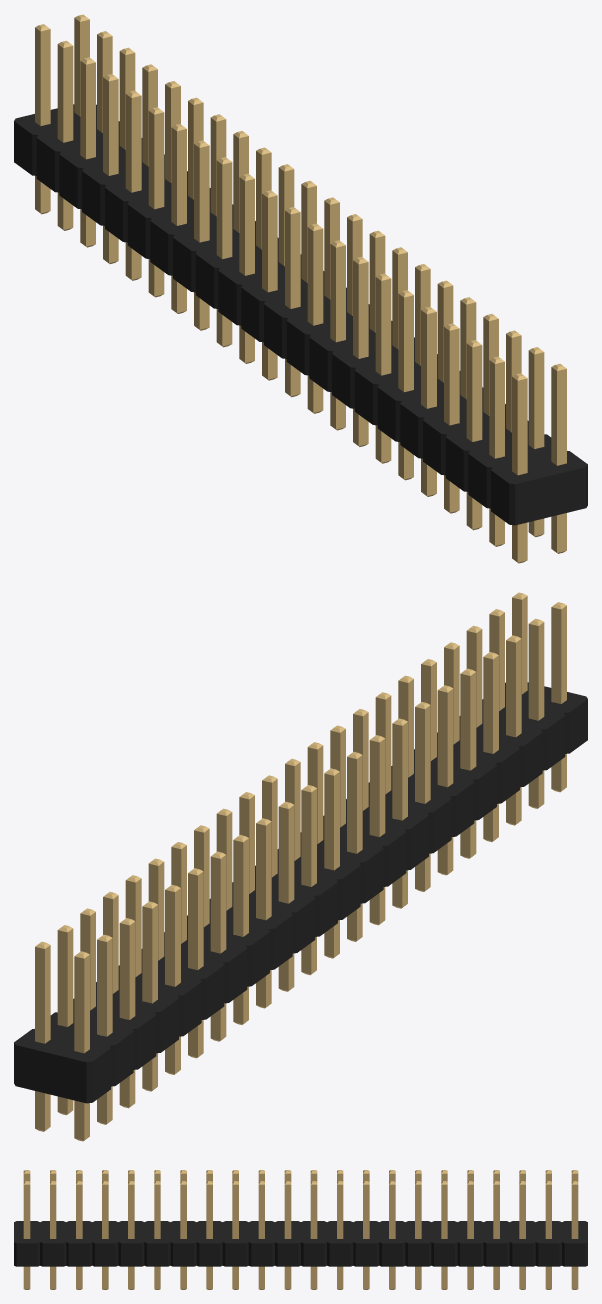
Rendered from kc-pinheader_2x22_p2.54mm_vertical.glb.
3 renders of one model, top to bottom at view 1: azimuth 30°, elevation 25°; view 2: azimuth 150°, elevation 25°; view 3: azimuth 270°, elevation 25°, orthographic. The views are drawn at different scales.
Parts seen in each view (by area): view 1: 0.75_0.5_0.25_0.9, 0_0_0_0; view 2: 0.75_0.5_0.25_0.9, 0_0_0_0; view 3: 0_0_0_0, 0.75_0.5_0.25_0.9.
Boxes of the visible parts, x1,y1,x2,y2 form: 0.75_0.5_0.25_0.9: [35, 14, 566, 563]; 0_0_0_0: [14, 104, 587, 525]; 0.75_0.5_0.25_0.9: [35, 592, 566, 1141]; 0_0_0_0: [14, 682, 587, 1103]; 0_0_0_0: [14, 1221, 587, 1266]; 0.75_0.5_0.25_0.9: [23, 1170, 578, 1289].
Bounding box in the file's own units: 0.5082 × 1.15 × 5.59.
